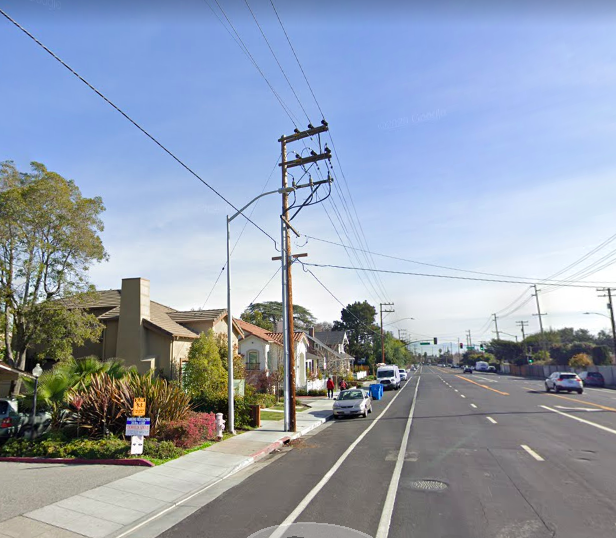utility_pole: (270, 114, 335, 212)
